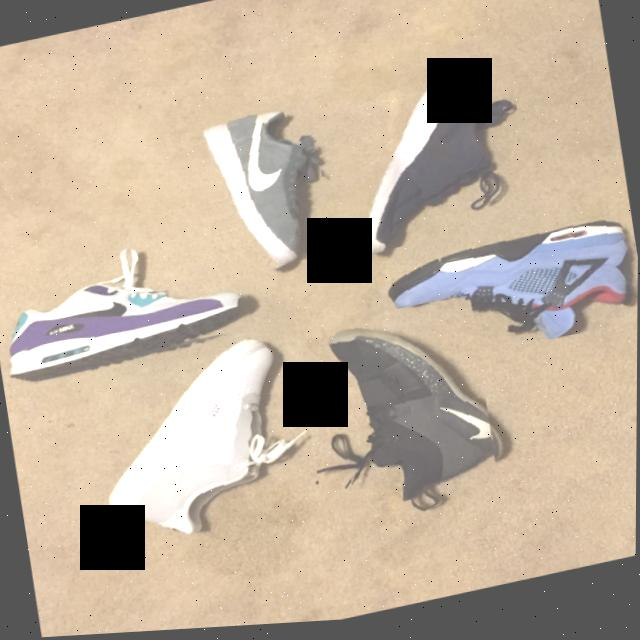shoe: (77, 315, 326, 567), (0, 212, 261, 401), (323, 298, 507, 559), (386, 204, 639, 377), (332, 70, 537, 274), (196, 93, 336, 286)
